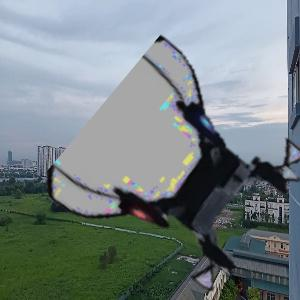drone: (78, 67, 295, 284)
